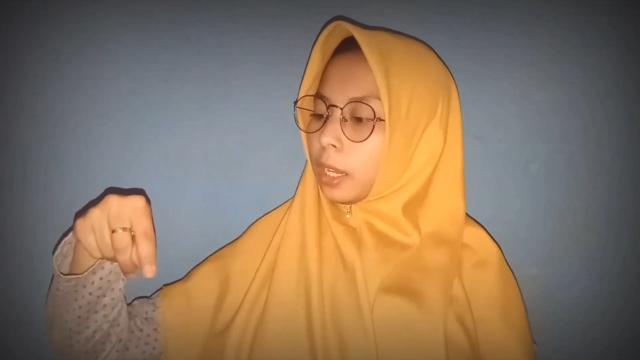P: (73, 185, 164, 284)
